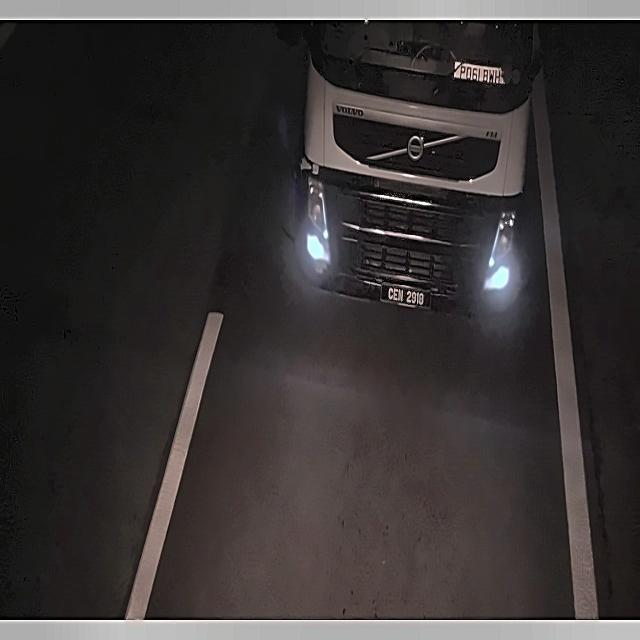car: (378, 281, 428, 313)
